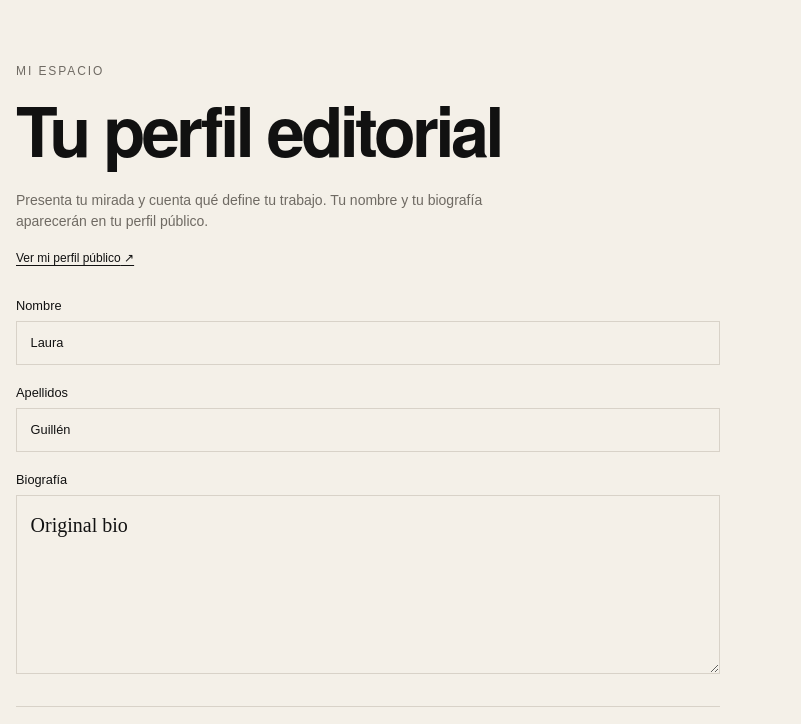
Test: Accessible editorial galleries › saves profile details without changing the account URL or credentials
The width and height of the screenshot is (801, 724).
Replace the text in the text box labelled "Biografía" with "Una nueva mirada sobre la moda." at (368, 585), box [16,495,720,674]
(page scrolled)
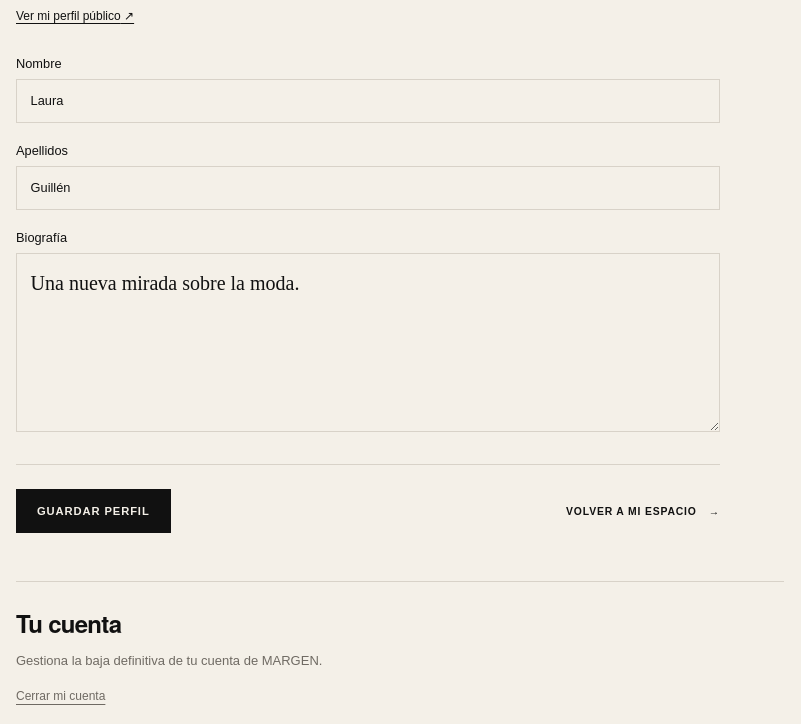
Click the button "Guardar perfil" at (93, 511), box [16,489,171,533]
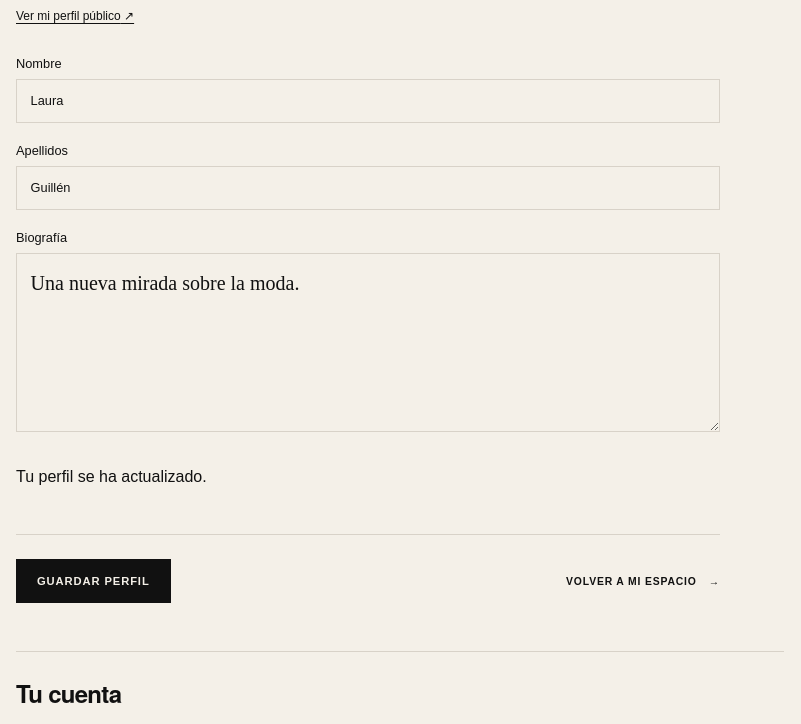
Expected: the text "Tu perfil se ha actualizado." is shown, [16,468,207,485]
